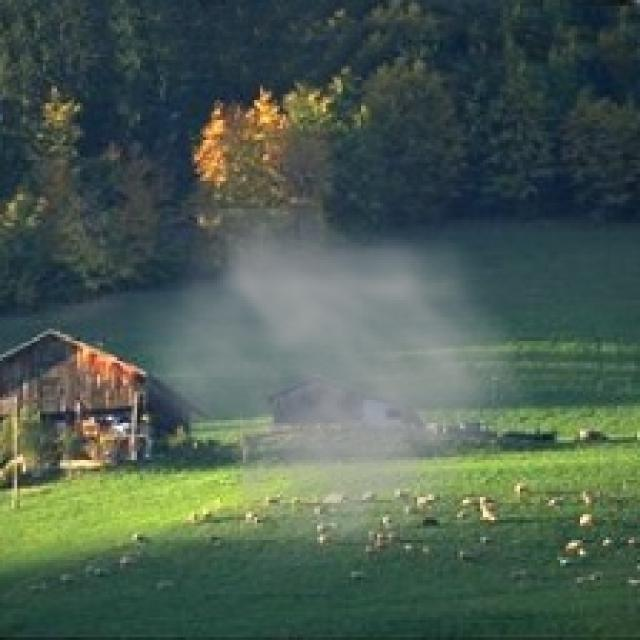Smoke: (122, 208, 548, 583)
